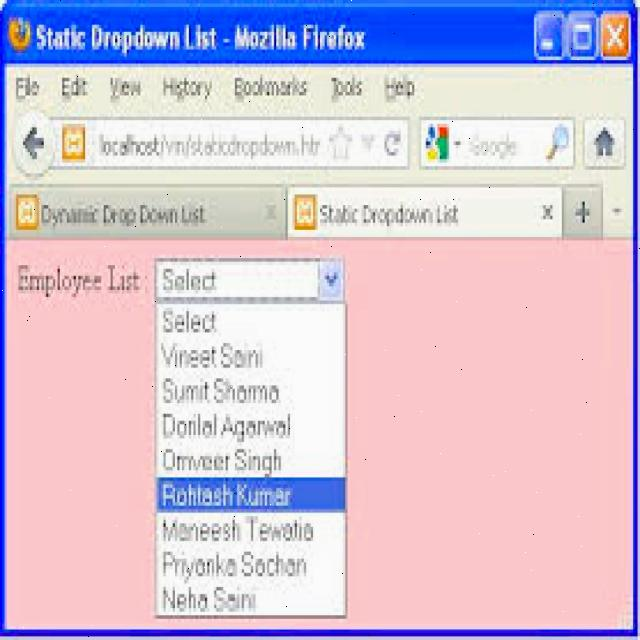button: (10, 184, 288, 239), (288, 185, 560, 238), (231, 76, 309, 104), (161, 74, 214, 105), (382, 71, 422, 105), (109, 74, 150, 105), (590, 125, 618, 167), (18, 126, 50, 162), (58, 73, 92, 104), (329, 74, 366, 102), (542, 126, 570, 161), (13, 75, 47, 103), (570, 19, 594, 54), (604, 20, 628, 52), (539, 22, 563, 52), (572, 198, 594, 228), (382, 129, 403, 160)
dropdownMenu: (156, 257, 346, 622)
icon: (59, 121, 90, 166), (5, 14, 32, 54), (423, 122, 450, 162), (291, 193, 318, 230), (14, 193, 40, 230)
input: (52, 117, 375, 171), (453, 127, 534, 162)
label: (34, 20, 370, 56), (17, 262, 149, 296), (161, 305, 218, 334)
menuItem: (156, 477, 346, 513), (161, 411, 293, 444), (162, 516, 316, 544), (163, 549, 307, 578), (160, 446, 283, 478), (160, 376, 284, 406), (158, 340, 266, 371), (162, 584, 256, 614)
